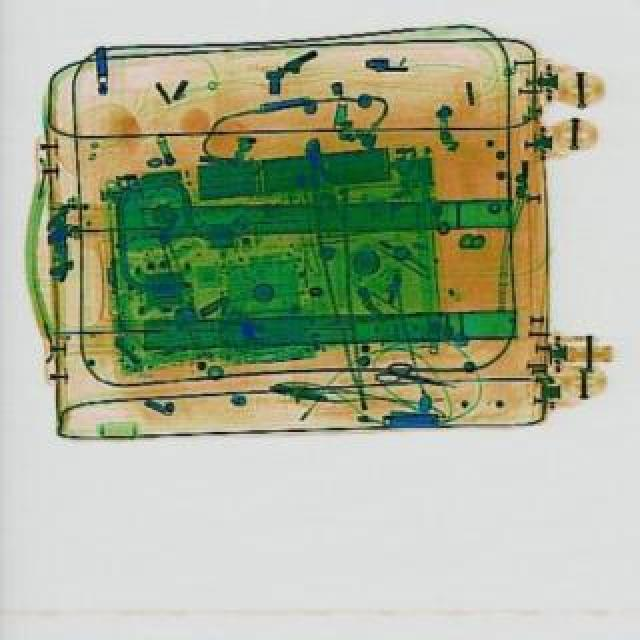pliers: (374, 354, 456, 398)
